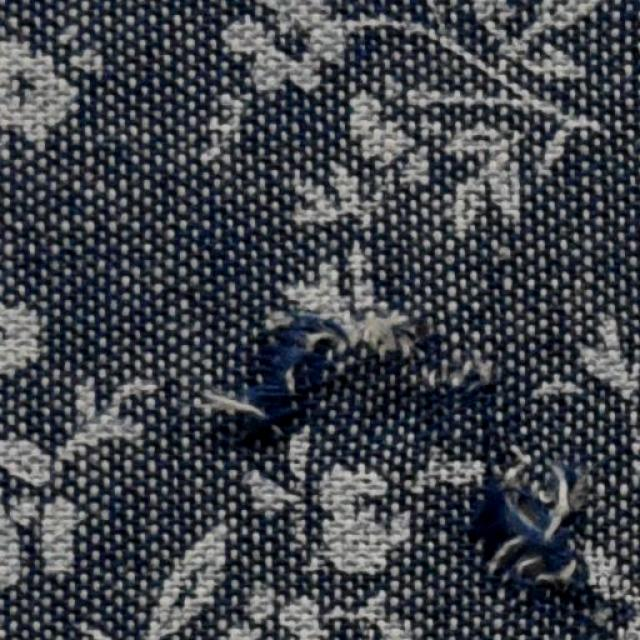Snag: (200, 293, 489, 464), (454, 448, 601, 600)
